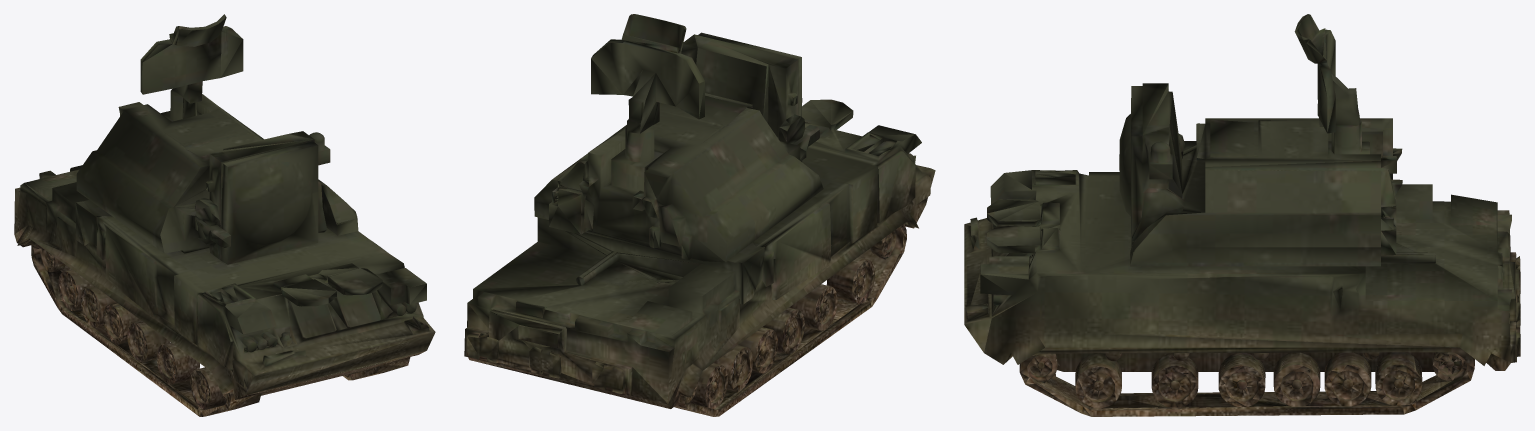
Rendered from sam_tor.glb.
3 views of the same model, side by side, from view 1: azimuth 30°, elevation 25°; view 2: azimuth 150°, elevation 25°; view 3: azimuth 270°, elevation 25° (orthographic). The views are drawn at different scales.
Parts seen in each view (by area): view 1: SA15-complete; view 2: SA15-complete; view 3: SA15-complete.
Boxes of the visible parts, left/top/right/bottom form: SA15-complete: left=14, top=14, right=435, bottom=416; SA15-complete: left=464, top=14, right=935, bottom=416; SA15-complete: left=964, top=14, right=1520, bottom=416.
Size of the model in its own units: 3.52 by 5.14 by 7.5.
Materials: 1 (1 with a texture image).
